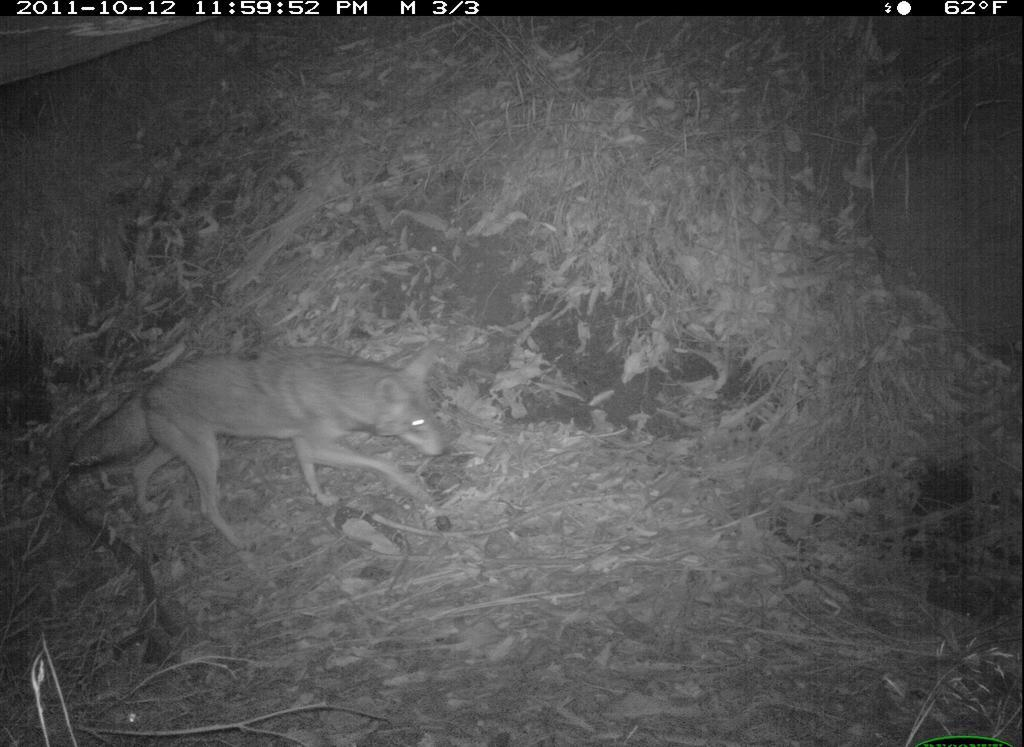coyote: (63, 345, 454, 557)
